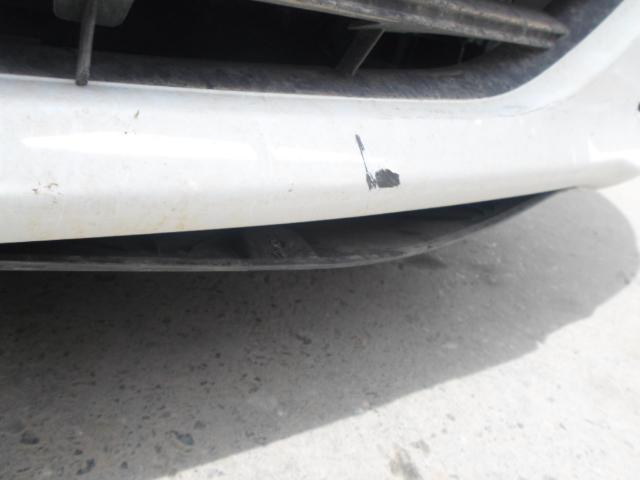scratch: (356, 134, 400, 190)
